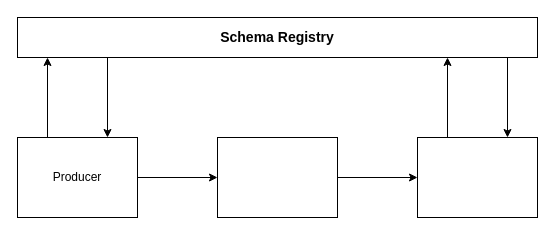
The diagram is 555 pixels wide and 235 high, and some of its shapes have lost their labels. The box of each missing label's shape, as (x1, y1, x2, y2) in pixels:
Consumer: (416, 136, 538, 218)
Kafka Cluster: (216, 136, 338, 218)
